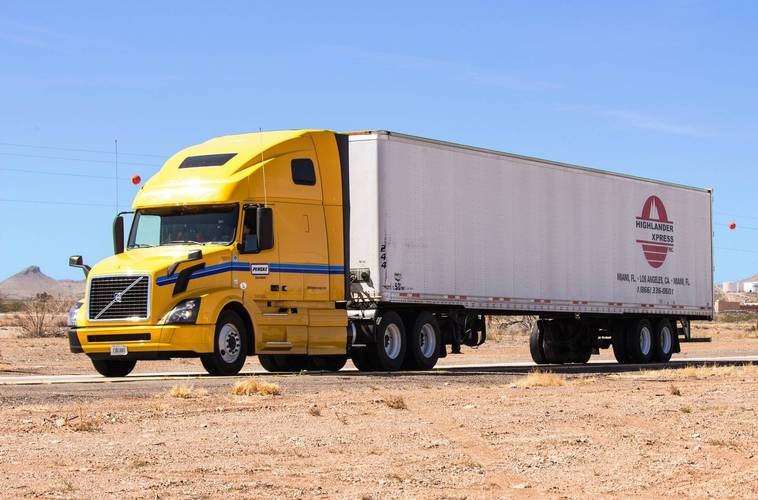卡车: (58, 124, 739, 373)
